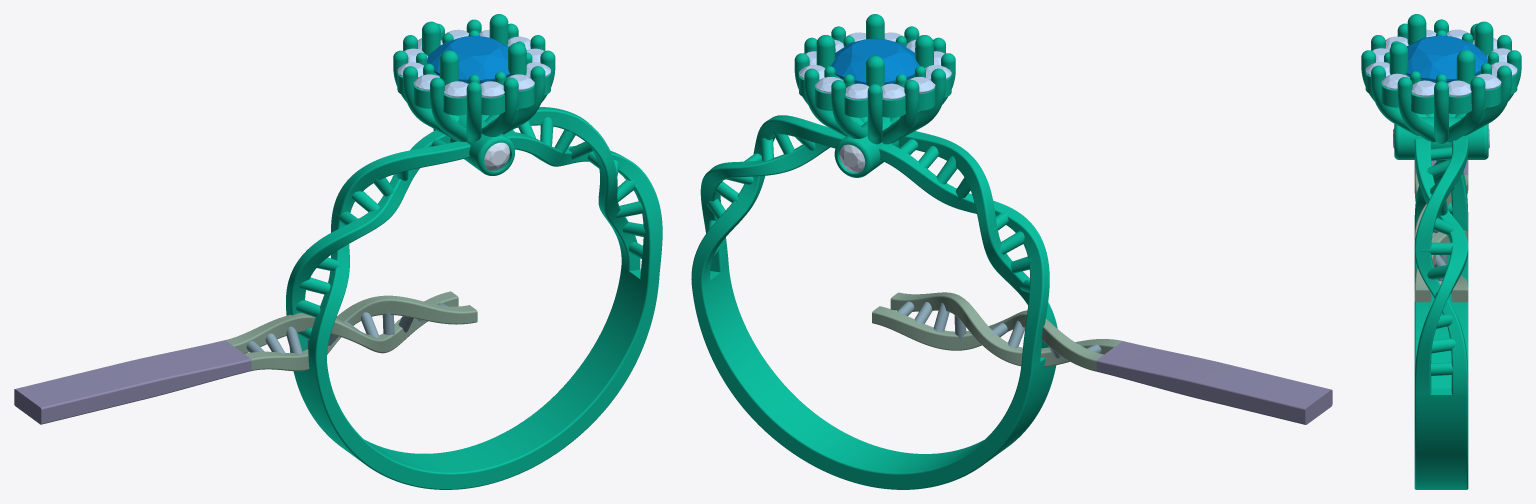
3 renders of one model, left to right at view 1: azimuth 30°, elevation 25°; view 2: azimuth 150°, elevation 25°; view 3: azimuth 270°, elevation 25°, orthographic.
Parts seen in each view (by area): view 1: Untitled.3dm, Diamond_Round; view 2: Untitled.3dm, Diamond_Round; view 3: Untitled.3dm, Diamond_Round (×6).
Part boxes in pixels (x1,y1,x2,y2): Untitled.3dm: (14, 14, 662, 489); Diamond_Round: (427, 35, 509, 83); Untitled.3dm: (691, 14, 1332, 489); Diamond_Round: (830, 38, 919, 84); Untitled.3dm: (1361, 14, 1521, 489); Diamond_Round (×6): (1381, 35, 1517, 96).
Bounding box in the file's own units: 4.38 × 2.96 × 0.9836.
